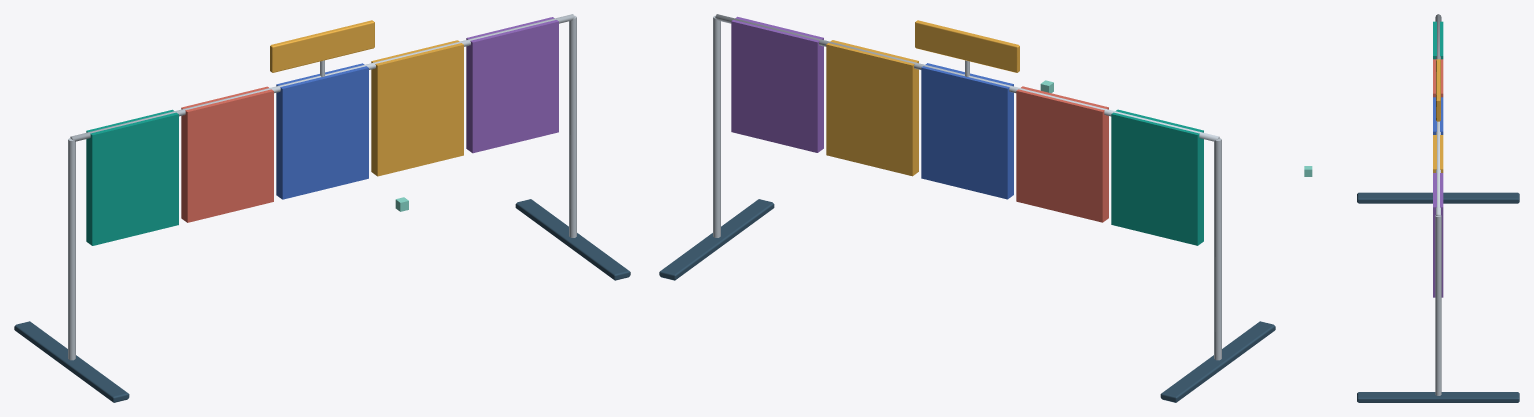
The model's file is CM_Fixture_ClothingRack_Far.fbx.
3 views of the same model, side by side, from view 1: azimuth 30°, elevation 25°; view 2: azimuth 150°, elevation 25°; view 3: azimuth 270°, elevation 25° (orthographic). The views are drawn at different scales.
Visible parts, largest first — view 1: Body; view 2: Body; view 3: Body.
Part boxes in pixels (x1,y1,x2,y2): Body: [14, 14, 630, 402]; Body: [659, 14, 1275, 402]; Body: [1357, 14, 1519, 402].
Size of the model in its own units: 12 by 5.3 by 6.
Materials: 1 (1 with a texture image).
